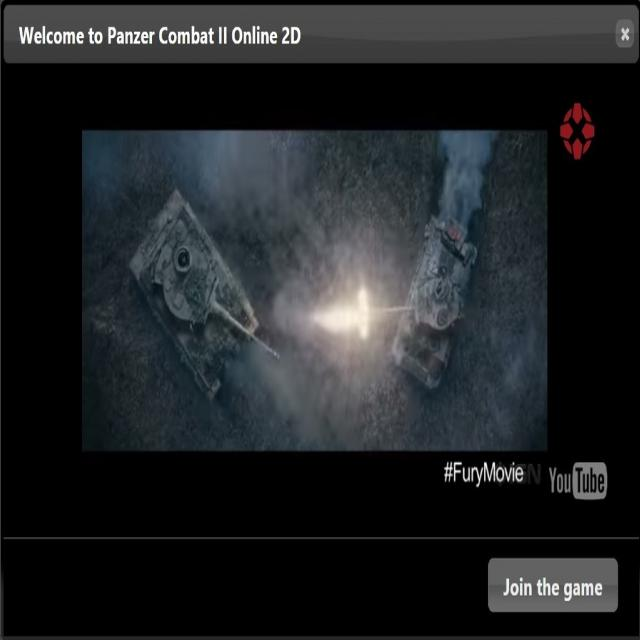tank: (127, 180, 280, 408), (367, 210, 476, 394)
